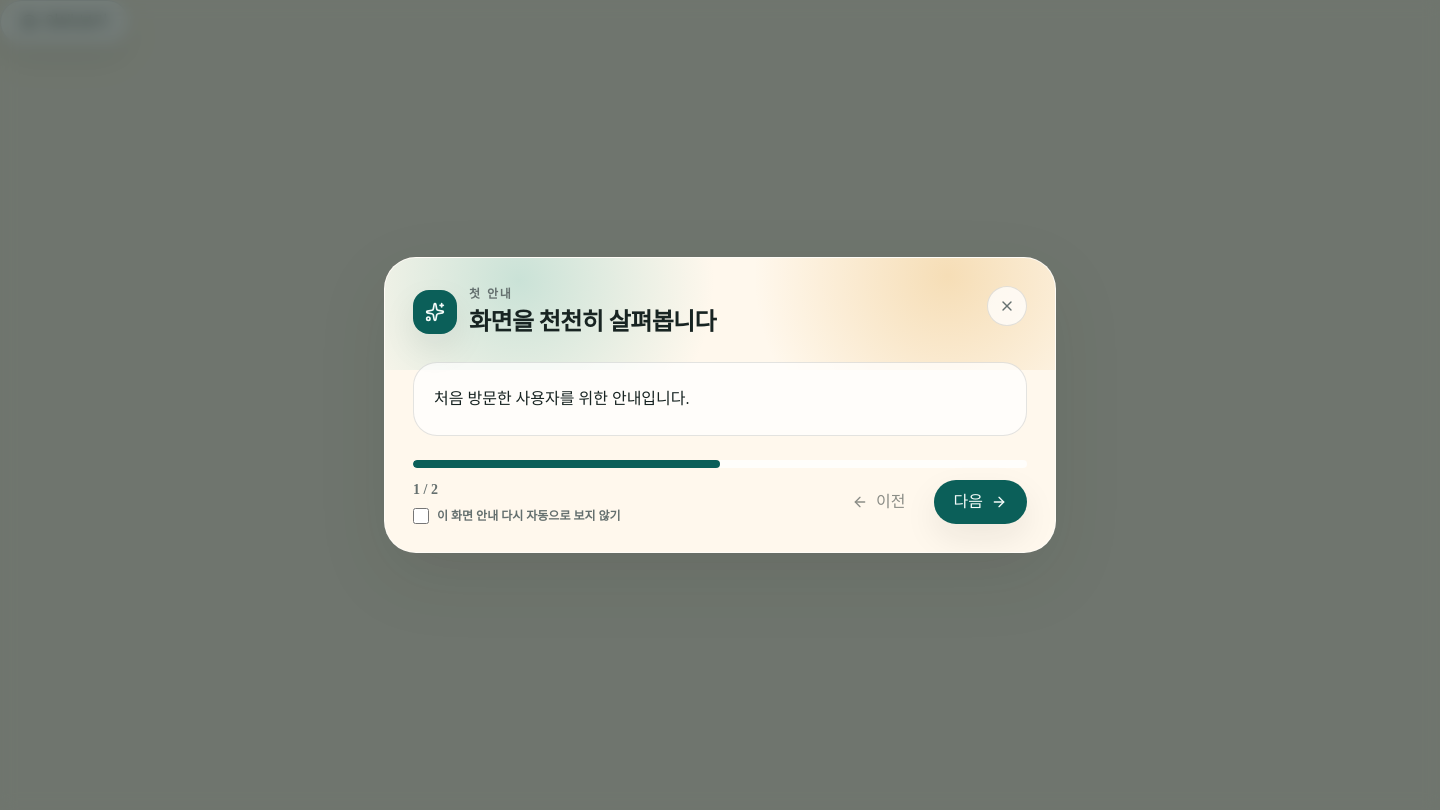
Test case: GuidedTour › remembers that the automatic guide was seen after closing
Click the button named "안내 닫기" at [1007, 306], box [987, 286, 1027, 326]
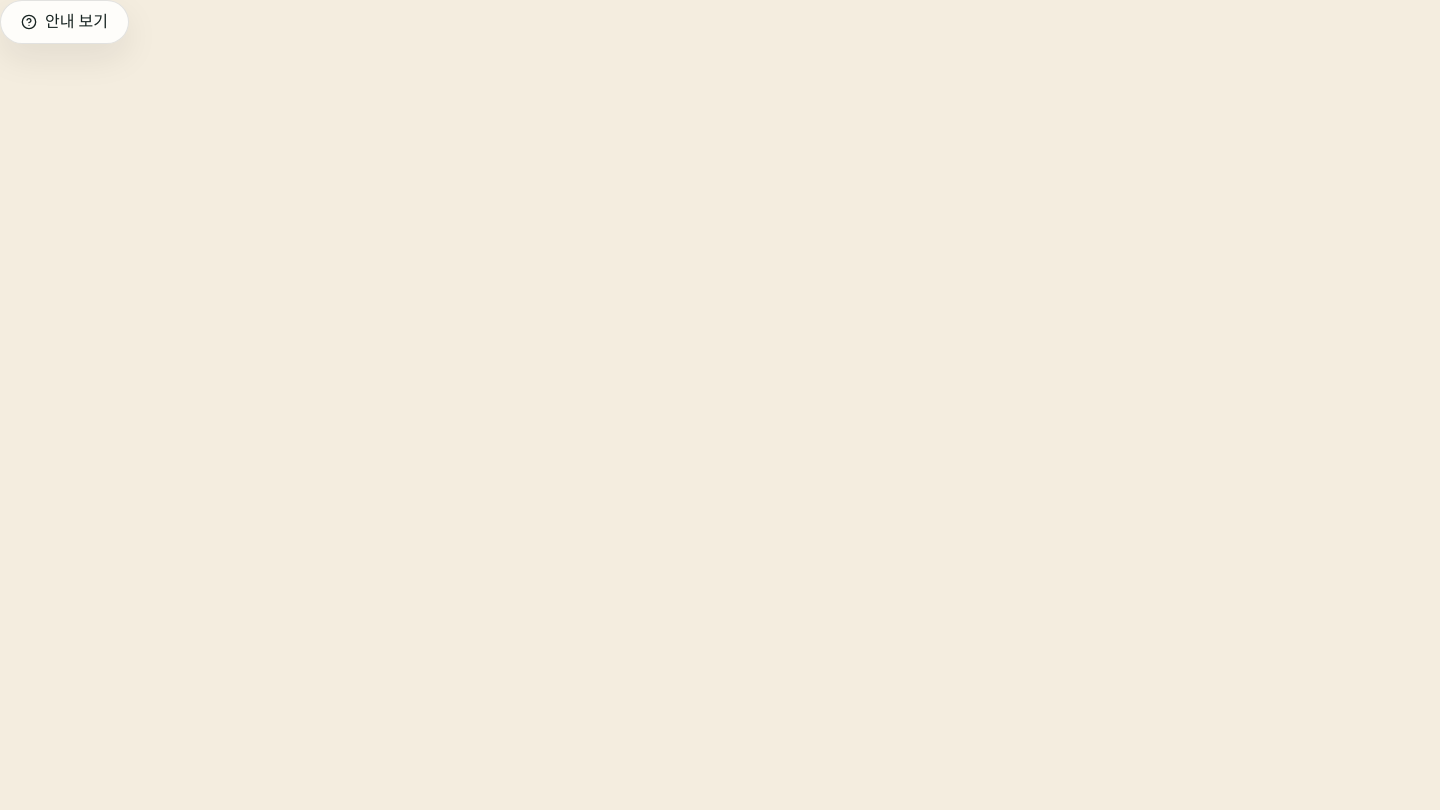
expect the dialog is gone: met
